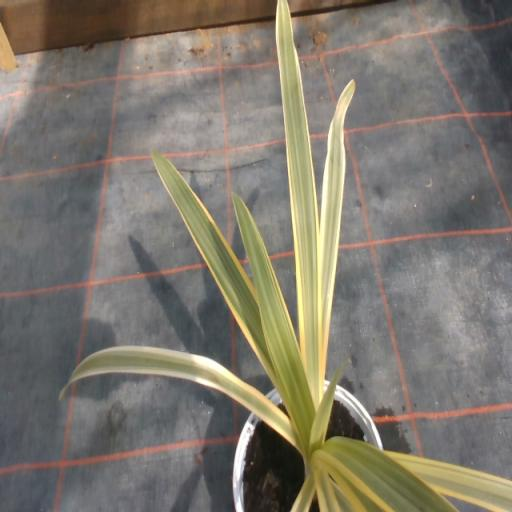Agapanthus-praecox: (152, 150, 275, 375), (59, 347, 298, 447), (235, 194, 313, 439), (276, 0, 322, 404), (324, 437, 511, 511), (320, 80, 354, 372), (388, 451, 511, 511), (310, 382, 335, 453), (314, 468, 340, 511), (290, 476, 314, 511), (335, 363, 344, 378), (280, 346, 282, 347)
